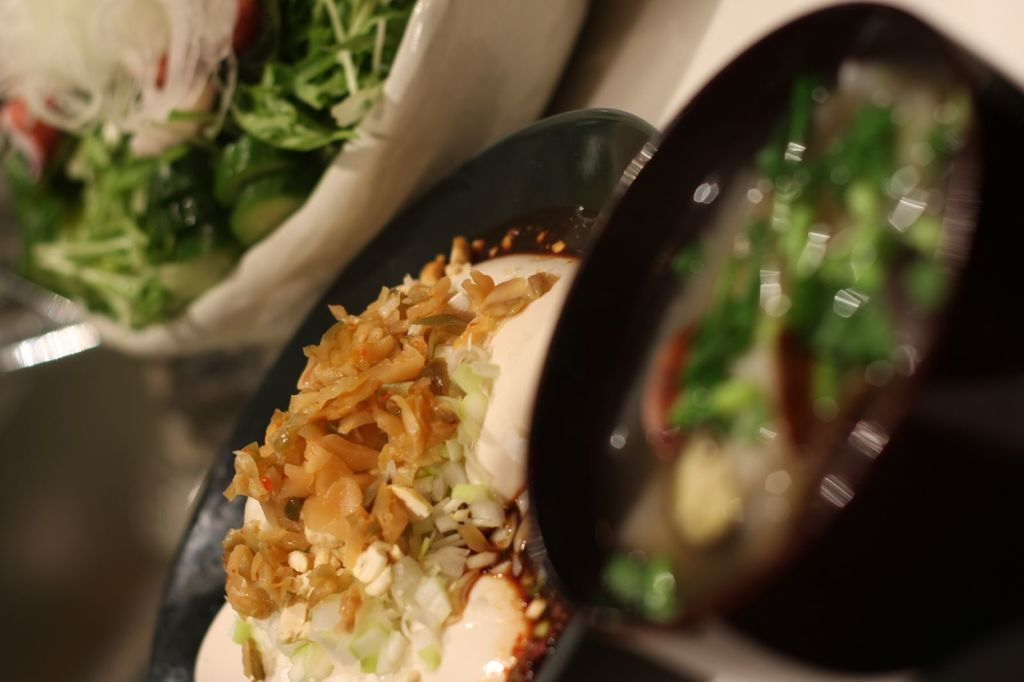salad: (182, 239, 561, 681), (1, 0, 431, 310)
